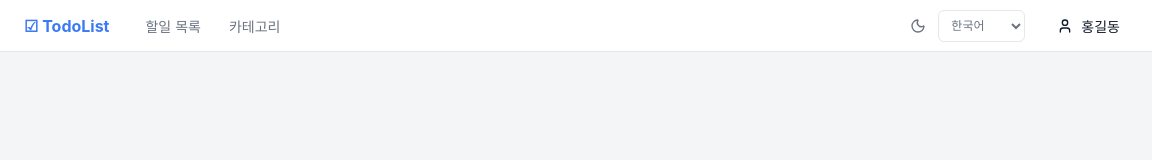
Test: Header › 사용자 버튼 클릭 시 드롭다운 열림
Step 1. Click the button "홍길동" → [1089, 26], box [1049,12,1128,40]
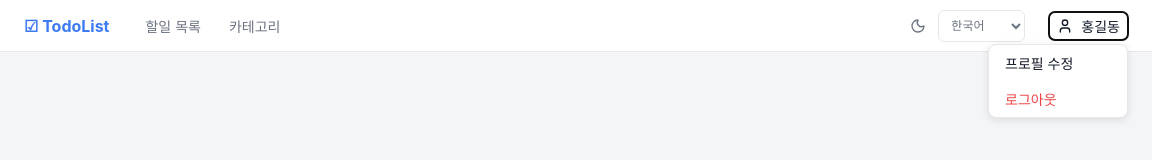
Result: the link "프로필 수정" is shown at [1005,54,1073,72]
Result: the button "로그아웃" is shown at [989,80,1127,116]
